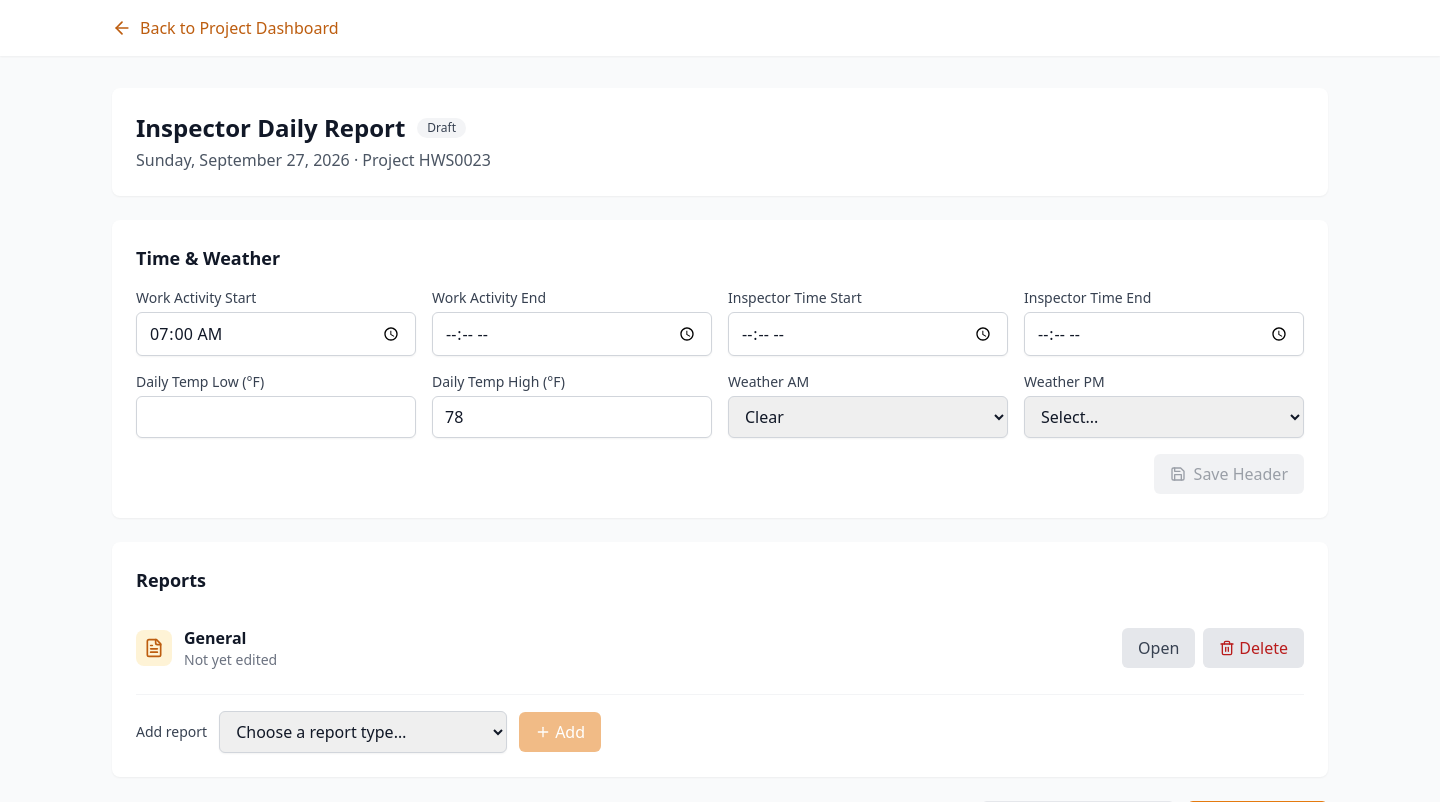
Test: IDRPage — header › keeps Save Header disabled until a field changes
Expected: the button "Save Header" is disabled, [1154,454,1304,494]
Type "48" into the number field labelled "Daily Temp Low (°F)" at (276, 417), box [136,396,416,438]
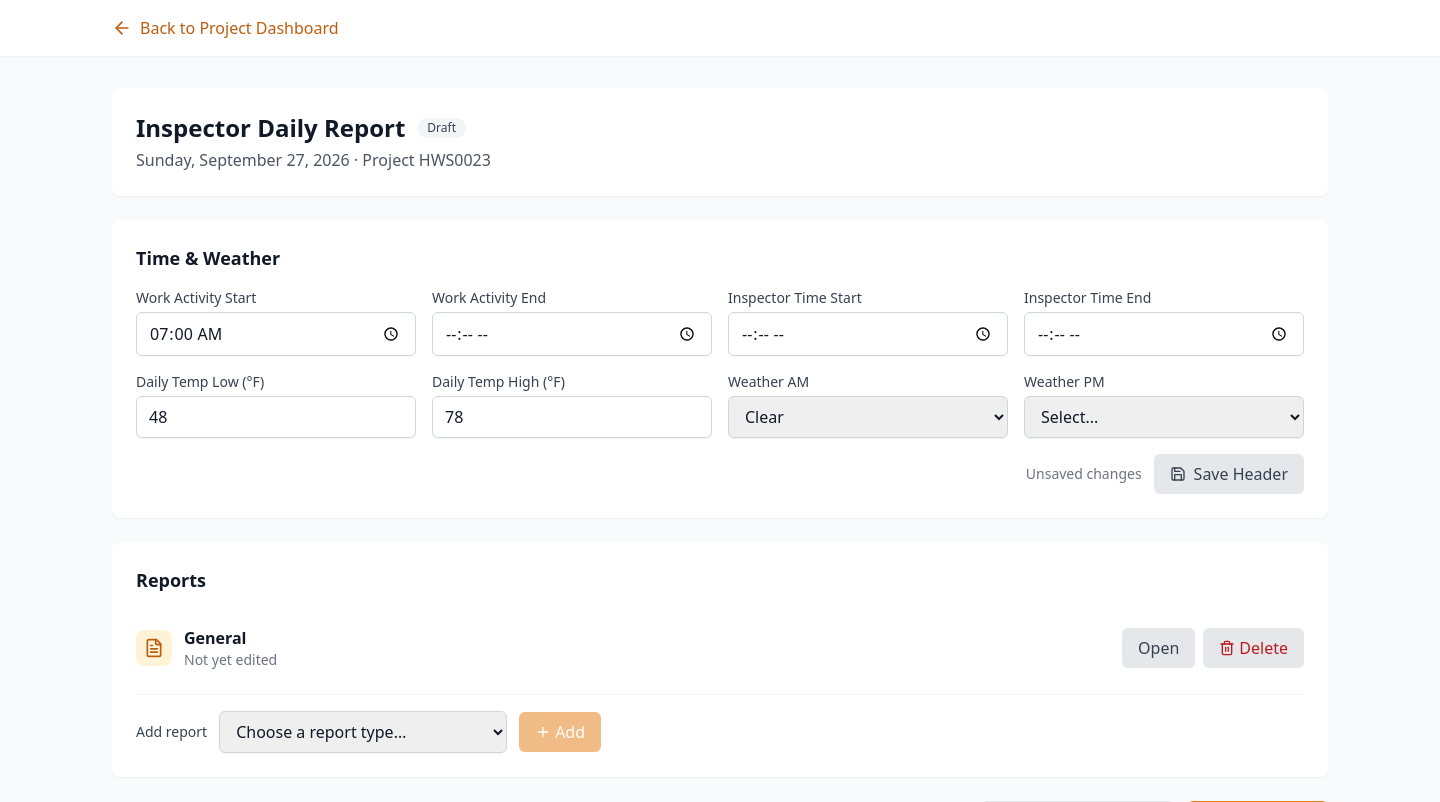
Expected: the button "Save Header" is enabled, [1154,454,1304,494]
Expected: the text "Unsaved changes" is shown, [1026,464,1142,484]
